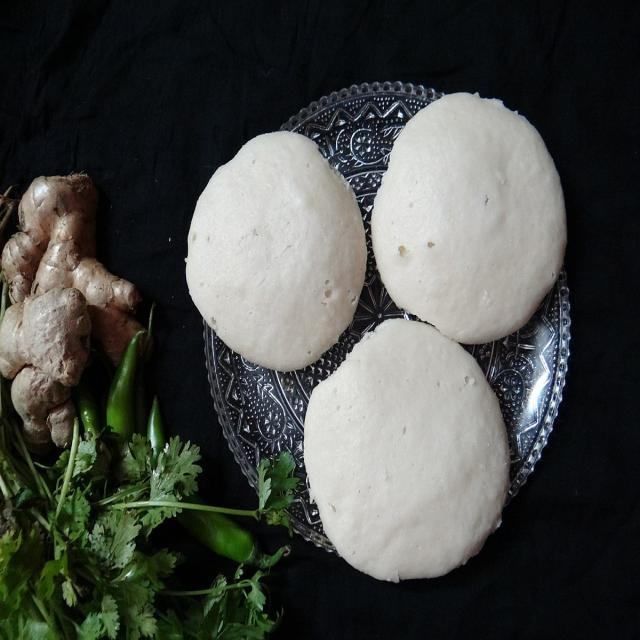idli: (203, 65, 583, 571)
